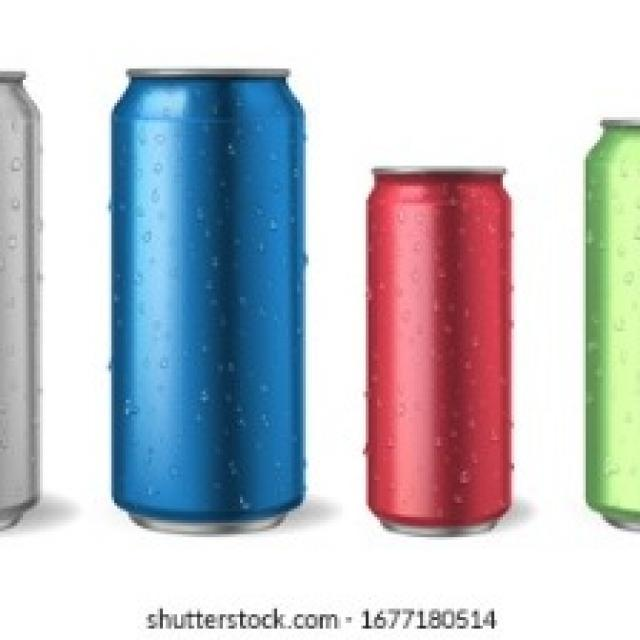metel: (114, 66, 307, 537), (361, 163, 525, 528), (1, 72, 58, 560), (577, 121, 640, 530)
